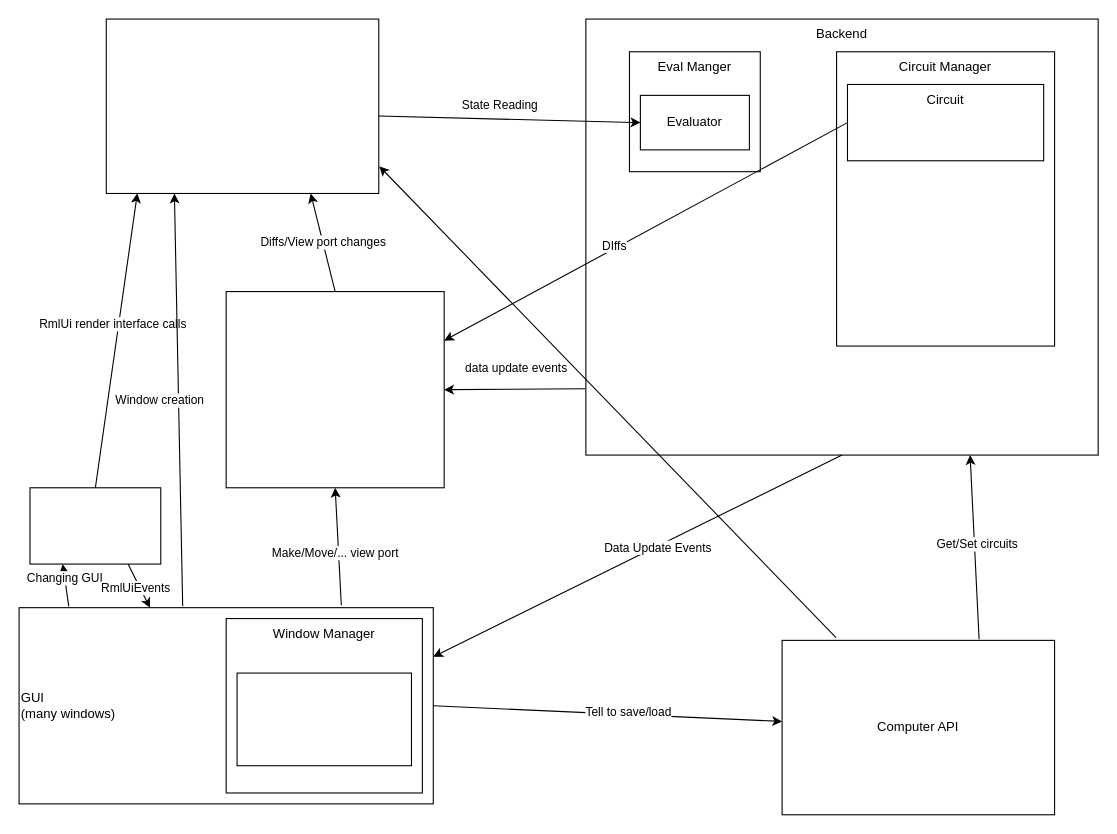
This 1117x834 diagram has some shape labels left out. The centre of each missing label's shape, as x and y in pixels:
RmlUi: point 95,525
View port manager: point 334,389
Vulkan Interface: point 242,105
Window: Tool Manager Manager Circuit Views: point 323,719
